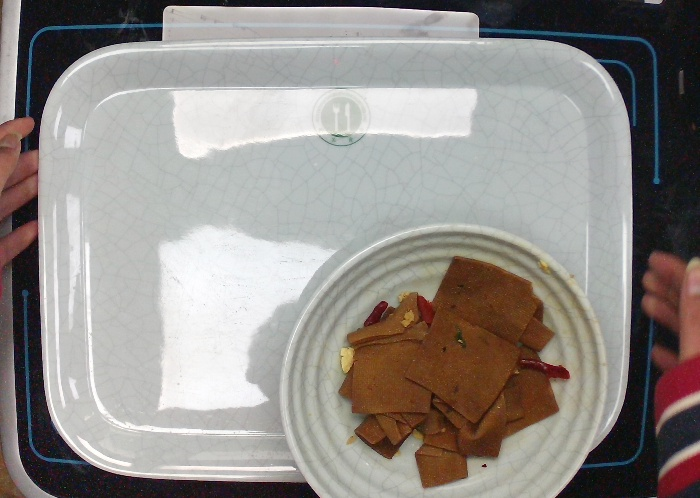JYsf-Da_Tang_Wan: (273, 218, 613, 498)
